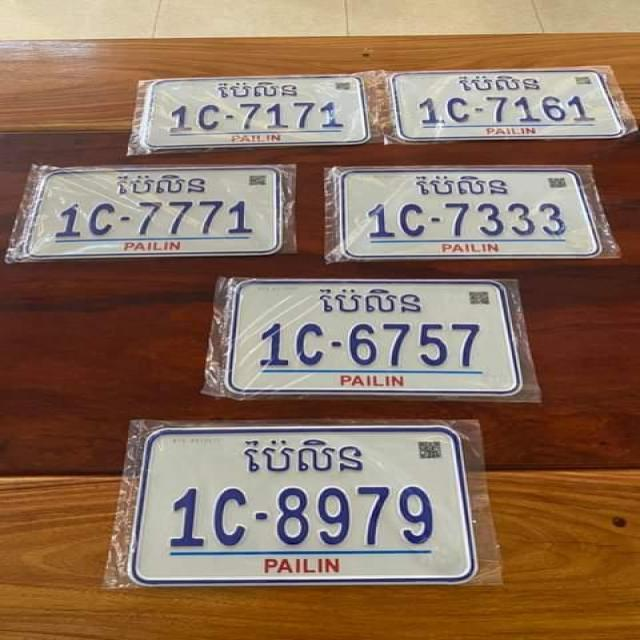Pailin: (244, 435, 366, 472), (317, 287, 422, 315), (415, 174, 510, 197), (116, 174, 208, 194), (456, 73, 542, 92), (218, 78, 300, 96)
